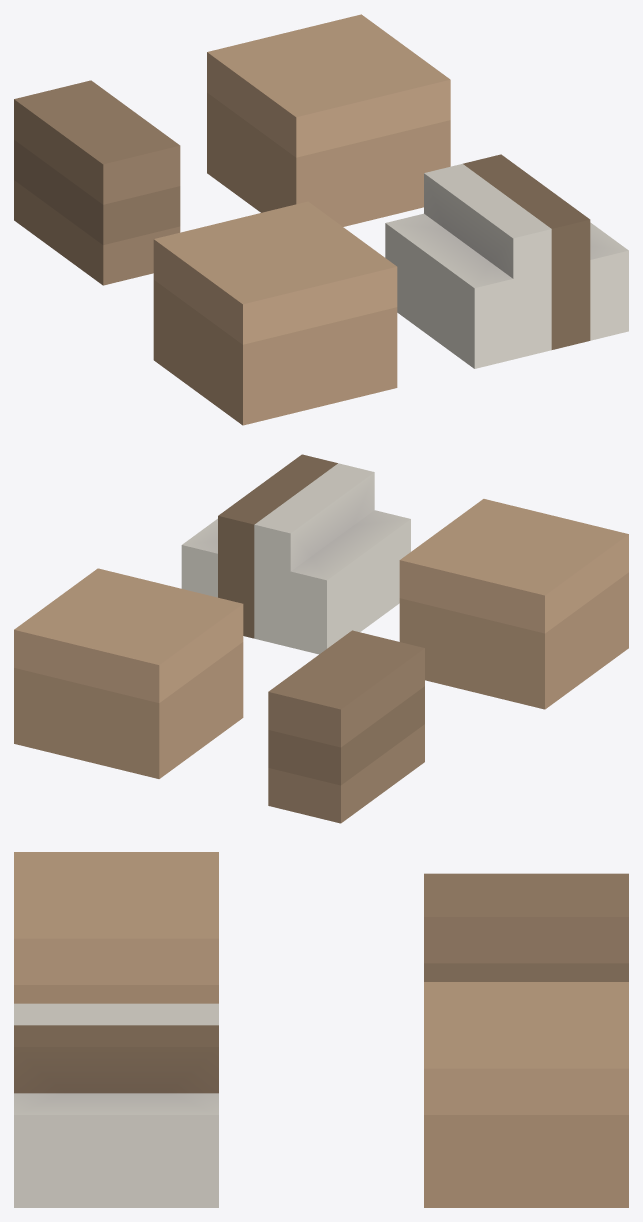
File: hulk.cargo.glb
3 renders of one model, top to bottom at view 1: azimuth 30°, elevation 25°; view 2: azimuth 150°, elevation 25°; view 3: azimuth 270°, elevation 25°, orthographic. The views are drawn at different scales.
Visible parts, largest first — view 1: hulk; view 2: hulk; view 3: hulk.
Part boxes in pixels (box(x1,y1,x2,y2)): hulk: box(14, 14, 628, 425); hulk: box(14, 454, 628, 823); hulk: box(14, 852, 628, 1207).
Size of the model in its own units: 0.5 by 0.15 by 0.6.
